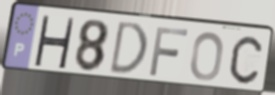8: (72, 17, 111, 74)
C: (228, 34, 264, 86)
D: (107, 20, 150, 76)
F: (147, 25, 191, 78)
H: (32, 13, 77, 71)
O: (189, 30, 226, 83)
